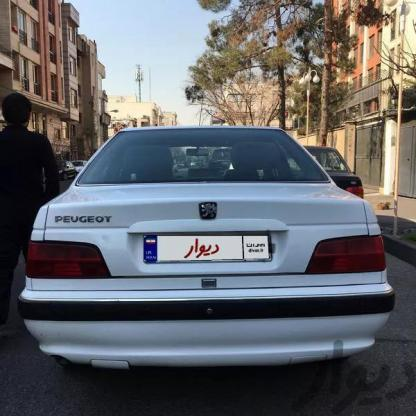Car: (21, 122, 386, 377), (292, 137, 384, 208)
